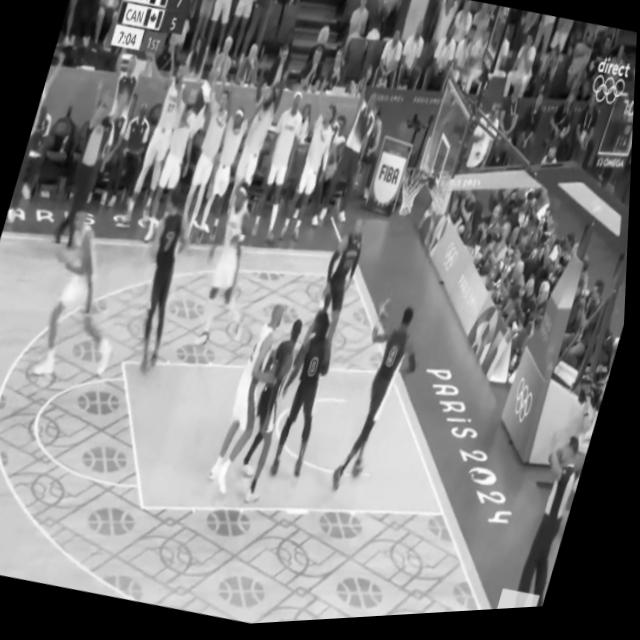ball_handler: (325, 290, 441, 511)
